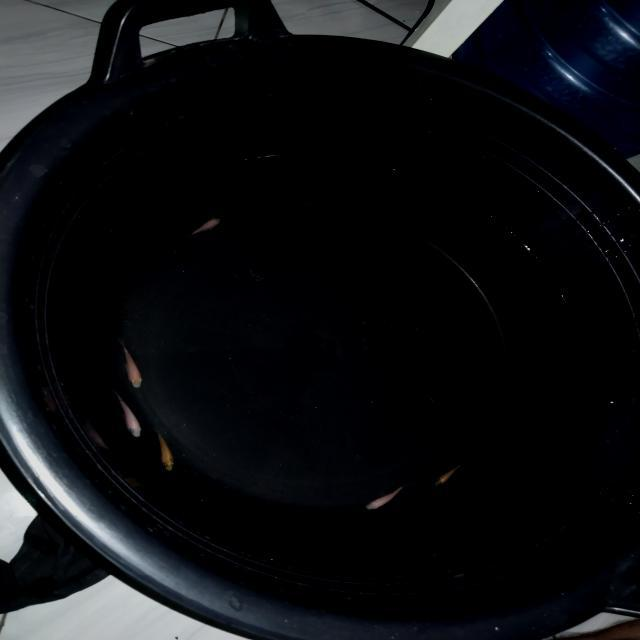nila: (112, 332, 144, 389), (112, 391, 146, 442), (364, 480, 406, 514), (152, 430, 178, 476), (430, 462, 461, 490)
